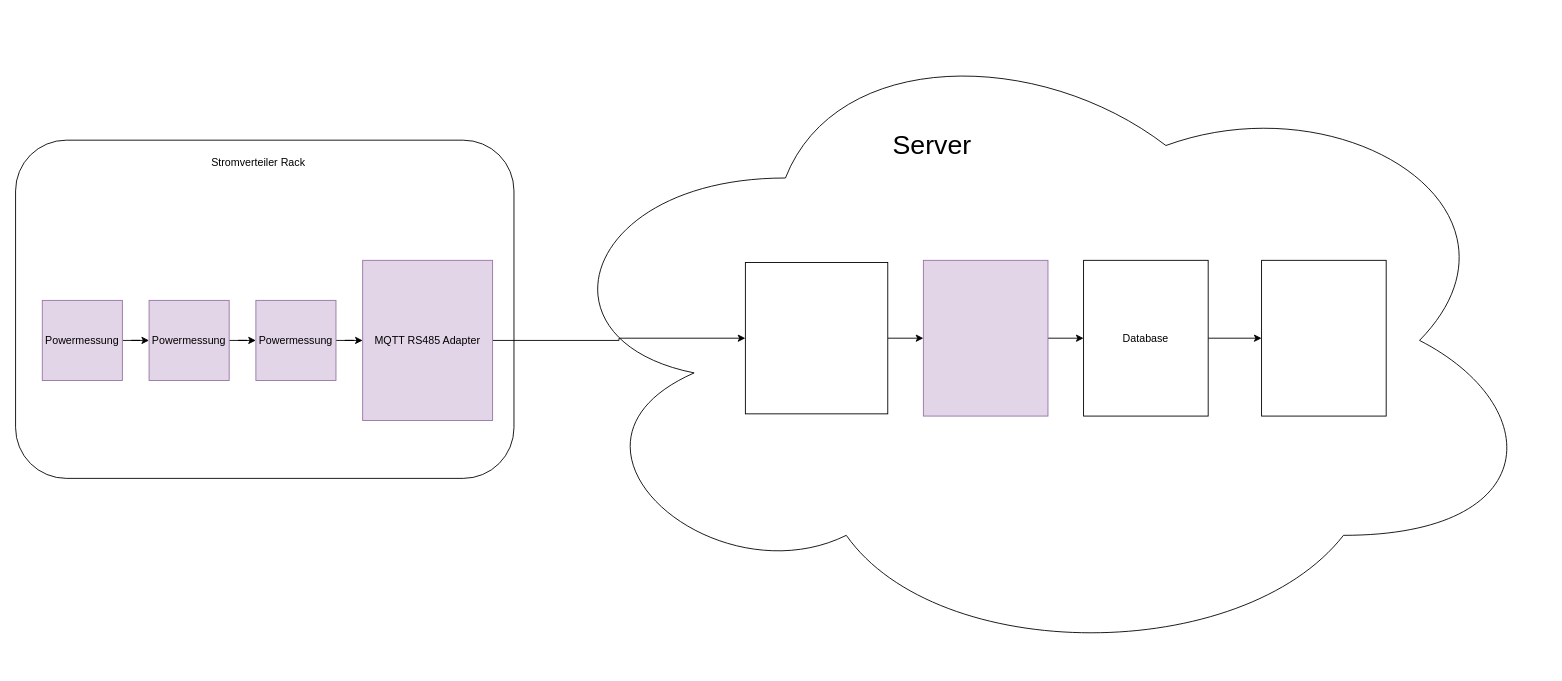
Image size: 1562x681. Some labels were removed from this diagram. The shapes that lost their labels are listed below. From the top down, each one's centre as x and y in pixels, then its label:
the point at 816,338: MQTT Broker
the point at 985,337: Middleware
the point at 1323,337: Dashboard
